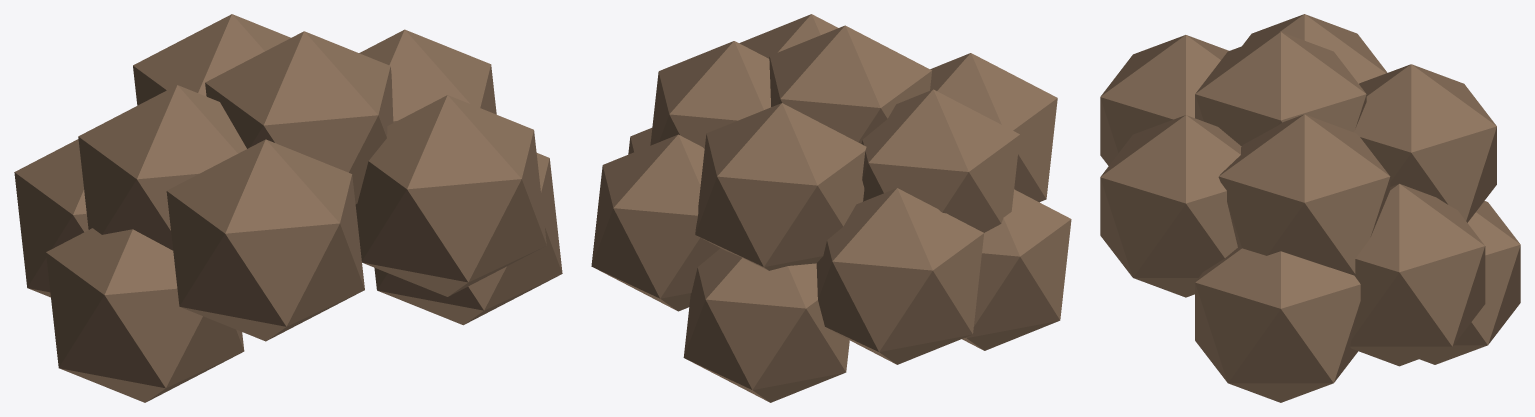
Rendered from CharHairCurly.fbx.
The picture shows the model from 3 angles, left to right: view 1: azimuth 30°, elevation 25°; view 2: azimuth 150°, elevation 25°; view 3: azimuth 270°, elevation 25°; orthographic projection. The views are drawn at different scales.
Parts seen in each view (by area): view 1: CharHairCurly; view 2: CharHairCurly; view 3: CharHairCurly.
Boxes of the visible parts, x1=… form: CharHairCurly: x1=14, y1=14, x2=562, y2=402; CharHairCurly: x1=591, y1=14, x2=1071, y2=402; CharHairCurly: x1=1100, y1=14, x2=1520, y2=402.
Bounding box in the file's own units: 0.4321 × 0.31 × 0.3546.
